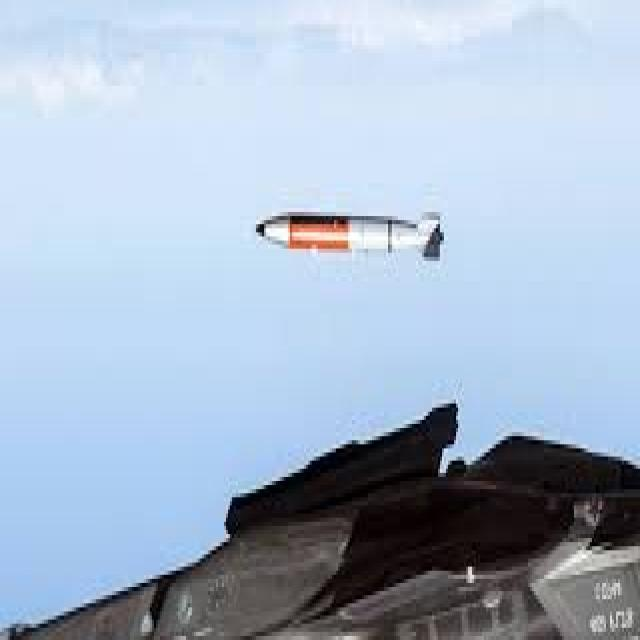missile: (255, 209, 449, 273)
